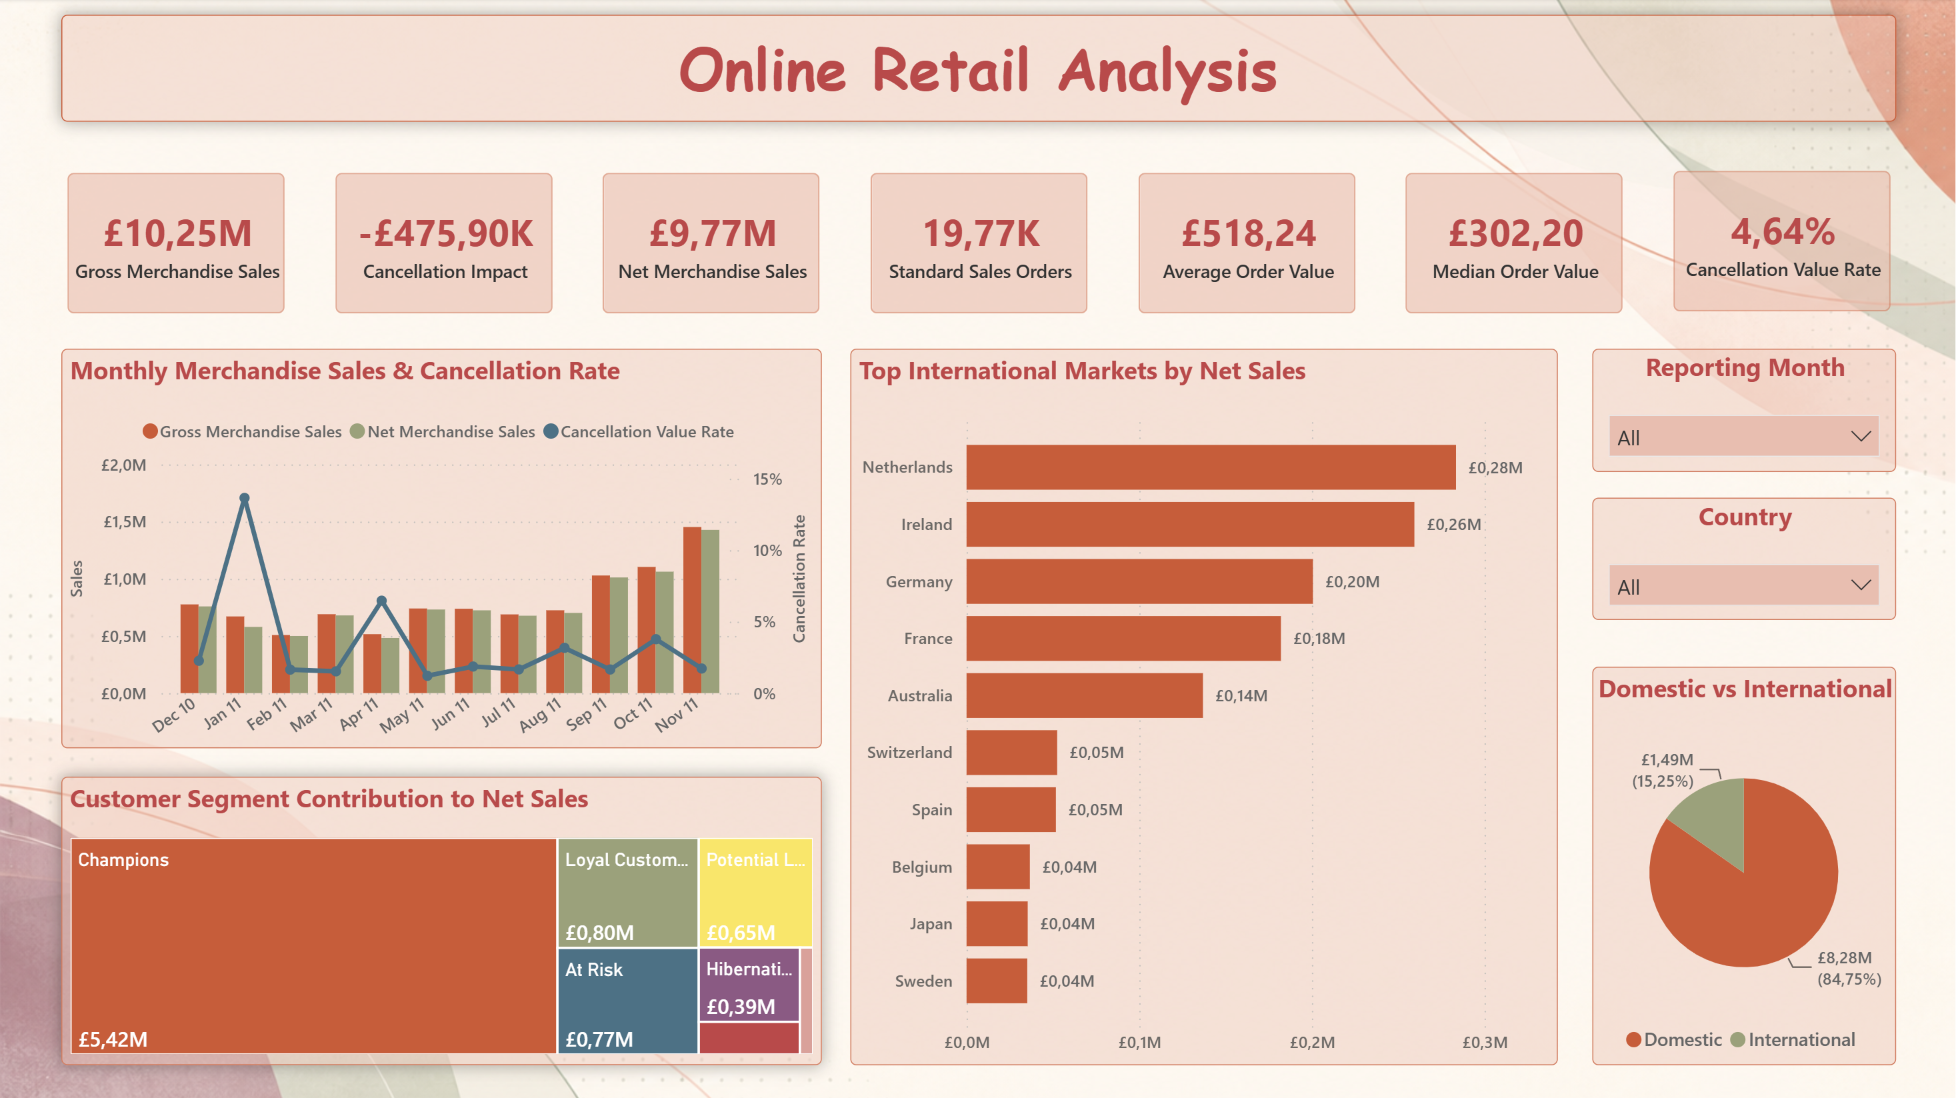

The dashboard page shown, as its layout file describes it:
{"tool":"powerbi","page":{"name":"Sales Overview","canvas":[1280,720],"ordinal":0},"visuals":[{"type":"cardVisual","fields":{"Data":["_Measures.Gross Merchandise Sales"]},"box":[40.5,110,150,100],"z":0},{"type":"cardVisual","fields":{"Data":["_Measures.Cancellation Impact"]},"box":[215.6,110,150,100],"z":1000},{"type":"cardVisual","fields":{"Data":["_Measures.Net Merchandise Sales"]},"box":[390.6,110,150,100],"z":2000},{"type":"cardVisual","fields":{"Data":["_Measures.Standard Sales Orders"]},"box":[565.7,110,150,100],"z":3000},{"type":"cardVisual","fields":{"Data":["_Measures.Average Order Value"]},"box":[740.7,110,150,100],"z":4000},{"type":"cardVisual","fields":{"Data":["_Measures.Median Order Value"]},"box":[915.8,110,150,100],"z":5000},{"type":"cardVisual","fields":{"Data":["_Measures.Cancellation Value Rate"]},"box":[1090.8,108.3,150,100],"z":6000},{"type":"lineClusteredColumnComboChart","title":"Monthly Merchandise Sales & Cancellation Rate","fields":{"Category":["dim_date.Month Year"],"Y":["_Measures.Gross Merchandise Sales","_Measures.Net Merchandise Sales"],"Y2":["_Measures.Cancellation Value Rate"]},"box":[40.5,228.9,497.7,261.6],"z":7000},{"type":"clusteredBarChart","title":"Top International Markets by Net Sales","fields":{"Category":["dim_country.country_name"],"Y":["_Measures.Net Merchandise Sales"]},"box":[556.5,228.9,463,468.9],"z":8000},{"type":"slicer","title":"Reporting Month","fields":{"Values":["dim_date.Month Year"]},"box":[1041.7,228.9,198.8,80.4],"z":9000},{"type":"slicer","title":"Country","fields":{"Values":["dim_country.country_name"]},"box":[1041.7,326.3,198.8,79.8],"z":10000},{"type":"textbox","box":[40.5,10.5,1200,70],"z":11000},{"type":"pieChart","title":"Domestic vs International","fields":{"Category":["dim_country.market_type"],"Y":["_Measures.Net Merchandise Sales"]},"box":[1041.7,436.8,198.8,260.9],"z":12000},{"type":"treemap","title":"Customer Segment Contribution to Net Sales","fields":{"Group":["dim_customer.customer_segment"],"Values":["_Measures.Net Merchandise Sales"]},"box":[40.5,508.8,497.7,189],"z":13000}]}

Visuals, with their boxes in screenshot pixels (x1, y1, x2, y2), scaled from the page's 1280x720 canvas onto the 1956x1099 screenshot:
cardVisual - _Measures.Gross Merchandise Sales: left=62, top=168, right=291, bottom=321
cardVisual - _Measures.Cancellation Impact: left=329, top=168, right=559, bottom=321
cardVisual - _Measures.Net Merchandise Sales: left=597, top=168, right=826, bottom=321
cardVisual - _Measures.Standard Sales Orders: left=864, top=168, right=1094, bottom=321
cardVisual - _Measures.Average Order Value: left=1132, top=168, right=1361, bottom=321
cardVisual - _Measures.Median Order Value: left=1399, top=168, right=1629, bottom=321
cardVisual - _Measures.Cancellation Value Rate: left=1667, top=165, right=1896, bottom=318
"Monthly Merchandise Sales & Cancellation Rate" lineClusteredColumnComboChart: left=62, top=349, right=822, bottom=749
"Top International Markets by Net Sales" clusteredBarChart: left=850, top=349, right=1558, bottom=1065
"Reporting Month" slicer: left=1592, top=349, right=1896, bottom=472
"Country" slicer: left=1592, top=498, right=1896, bottom=620
textbox: left=62, top=16, right=1896, bottom=123
"Domestic vs International" pieChart: left=1592, top=667, right=1896, bottom=1065
"Customer Segment Contribution to Net Sales" treemap: left=62, top=777, right=822, bottom=1065
